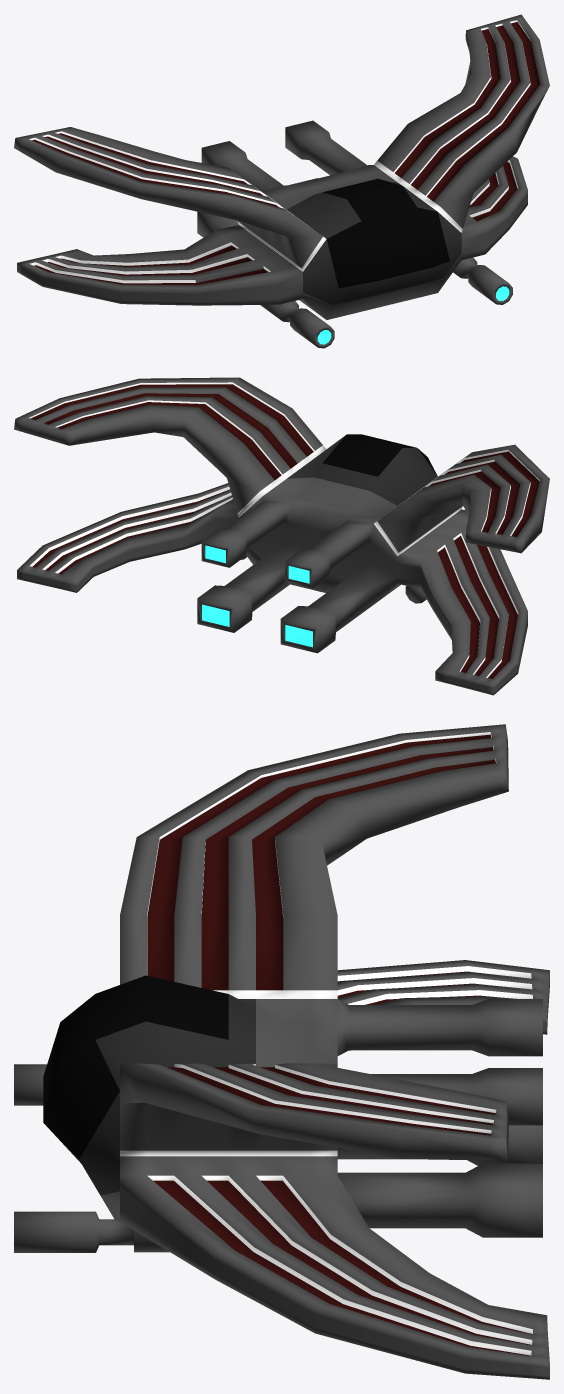
File: Ship2.gltf
3 renders of one model, top to bottom at view 1: azimuth 30°, elevation 25°; view 2: azimuth 150°, elevation 25°; view 3: azimuth 270°, elevation 25°, orthographic. The views are drawn at different scales.
Visible parts, largest first — view 1: ship; view 2: ship; view 3: ship.
Boxes of the visible parts, x1,y1,x2,y2 form: ship: [14, 14, 549, 348]; ship: [14, 377, 549, 695]; ship: [14, 724, 549, 1379].
Bounding box in the file's own units: 0.1993 × 0.0567 × 0.1077.
